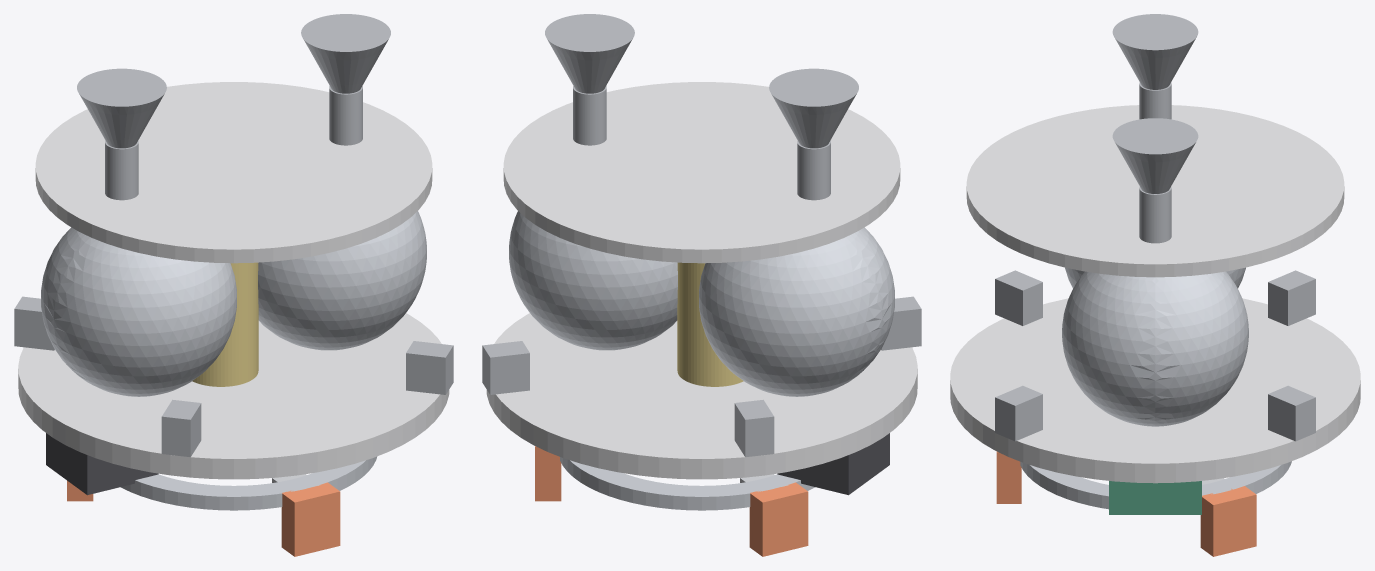
File: v6_kit_sl8_stowed.glb
The picture shows the model from 3 angles, left to right: view 1: azimuth 30°, elevation 25°; view 2: azimuth 150°, elevation 25°; view 3: azimuth 270°, elevation 25°; orthographic projection. The views are drawn at different scales.
Parts seen in each view (by area): view 1: top, deck, tank_1, tank_0, engine_1, engine_0, clamp_ring, bottle, jaw_2, sensors, rcs_3, rcs_2 (+1 smaller); view 2: top, deck, tank_1, tank_0, engine_1, engine_0, clamp_ring, bottle, jaw_1, sensors, rcs_0, rcs_1 (+2 smaller); view 3: top, deck, tank_0, engine_0, engine_1, jaw_0, clamp_ring, avionics, rcs_0, rcs_1, rcs_2, rcs_3 (+1 smaller).
Part boxes in pixels (box(x1,y1,x2,y2)): top: box(35, 82, 432, 263); deck: box(18, 313, 449, 479); tank_1: box(41, 227, 236, 396); tank_0: box(258, 211, 426, 350); engine_1: box(77, 68, 166, 200); engine_0: box(301, 14, 390, 145); clamp_ring: box(121, 456, 377, 510); bottle: box(192, 262, 258, 386); jaw_2: box(281, 482, 340, 556); sensors: box(46, 433, 158, 495); rcs_3: box(406, 341, 453, 394); rcs_2: box(161, 399, 201, 457); top: box(503, 82, 900, 263); deck: box(486, 313, 917, 479); tank_1: box(699, 227, 894, 396); tank_0: box(509, 211, 677, 350); engine_1: box(769, 68, 858, 200); engine_0: box(545, 14, 634, 145); clamp_ring: box(560, 457, 814, 510); bottle: box(677, 262, 743, 386); jaw_1: box(749, 482, 808, 556); sensors: box(777, 433, 889, 495); rcs_0: box(482, 341, 529, 394); rcs_1: box(734, 399, 774, 457); top: box(966, 105, 1344, 277); deck: box(950, 298, 1360, 483); tank_0: box(1062, 271, 1248, 426); engine_0: box(1112, 118, 1198, 243); engine_1: box(1112, 14, 1198, 119); jaw_0: box(1200, 486, 1256, 556); clamp_ring: box(1020, 461, 1291, 509); avionics: box(1109, 481, 1201, 514); rcs_0: box(1268, 385, 1315, 441); rcs_1: box(1268, 270, 1315, 325); rcs_2: box(995, 270, 1042, 325); rcs_3: box(995, 385, 1042, 441).
Size of the model in its own units: 1.15 by 1.26 by 1.15.
